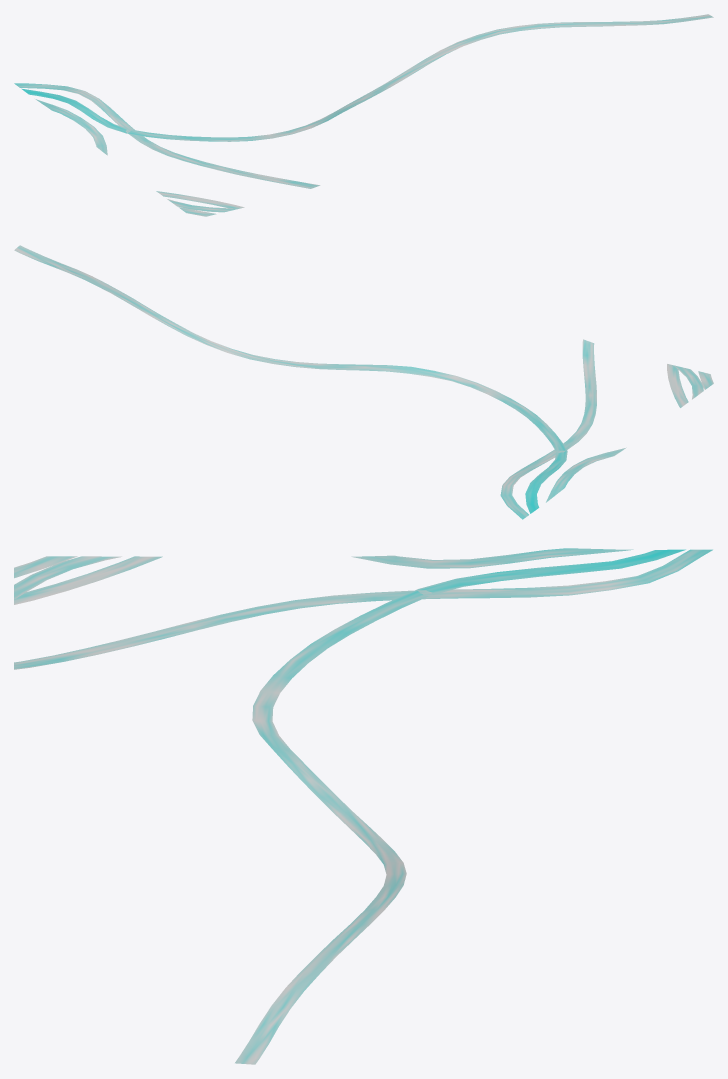
3 views of the same model, one above another, from view 1: azimuth 30°, elevation 25°; view 2: azimuth 150°, elevation 25°; view 3: azimuth 270°, elevation 25° (orthographic). The views are drawn at different scales.
Visible parts, largest first — view 1: SpaceCenter_Long3_GenerateRoad_Sand_TireTracks_Width_Mesh_x1; view 2: SpaceCenter_Long3_GenerateRoad_Sand_TireTracks_Width_Mesh_x1; view 3: SpaceCenter_Long3_GenerateRoad_Sand_TireTracks_Width_Mesh_x1.
Part boxes in pixels (x1,y1,x2,y2): SpaceCenter_Long3_GenerateRoad_Sand_TireTracks_Width_Mesh_x1: [14, 14, 713, 216]; SpaceCenter_Long3_GenerateRoad_Sand_TireTracks_Width_Mesh_x1: [14, 245, 713, 519]; SpaceCenter_Long3_GenerateRoad_Sand_TireTracks_Width_Mesh_x1: [14, 548, 712, 1064].
Bounding box in the file's own units: 1251 × 2304 × 89.2.
